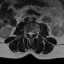CCS_normal: (30, 29, 31, 38)
LFS_normal: (33, 30, 35, 36)
LLS_normal: (31, 30, 33, 36)
RFS_stenosis: (26, 30, 28, 35)
RLS_normal: (28, 30, 30, 36)
